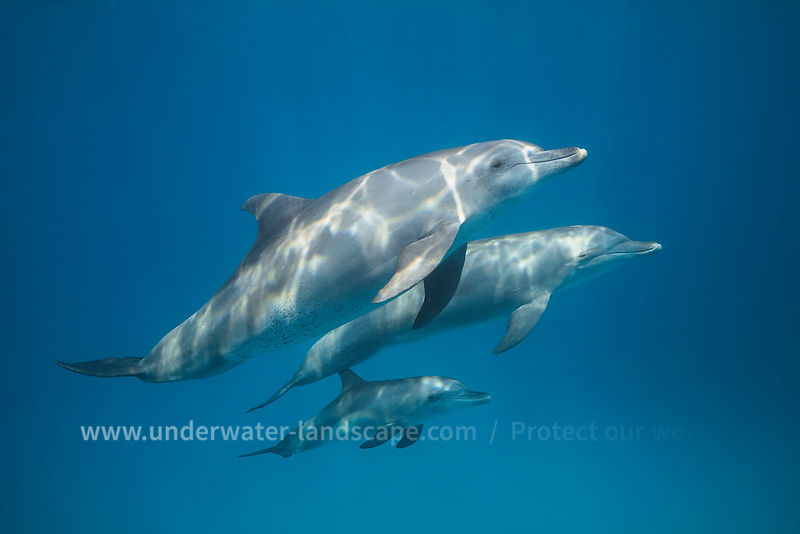dolphin: (60, 123, 587, 398), (249, 230, 691, 412), (221, 354, 498, 481)
